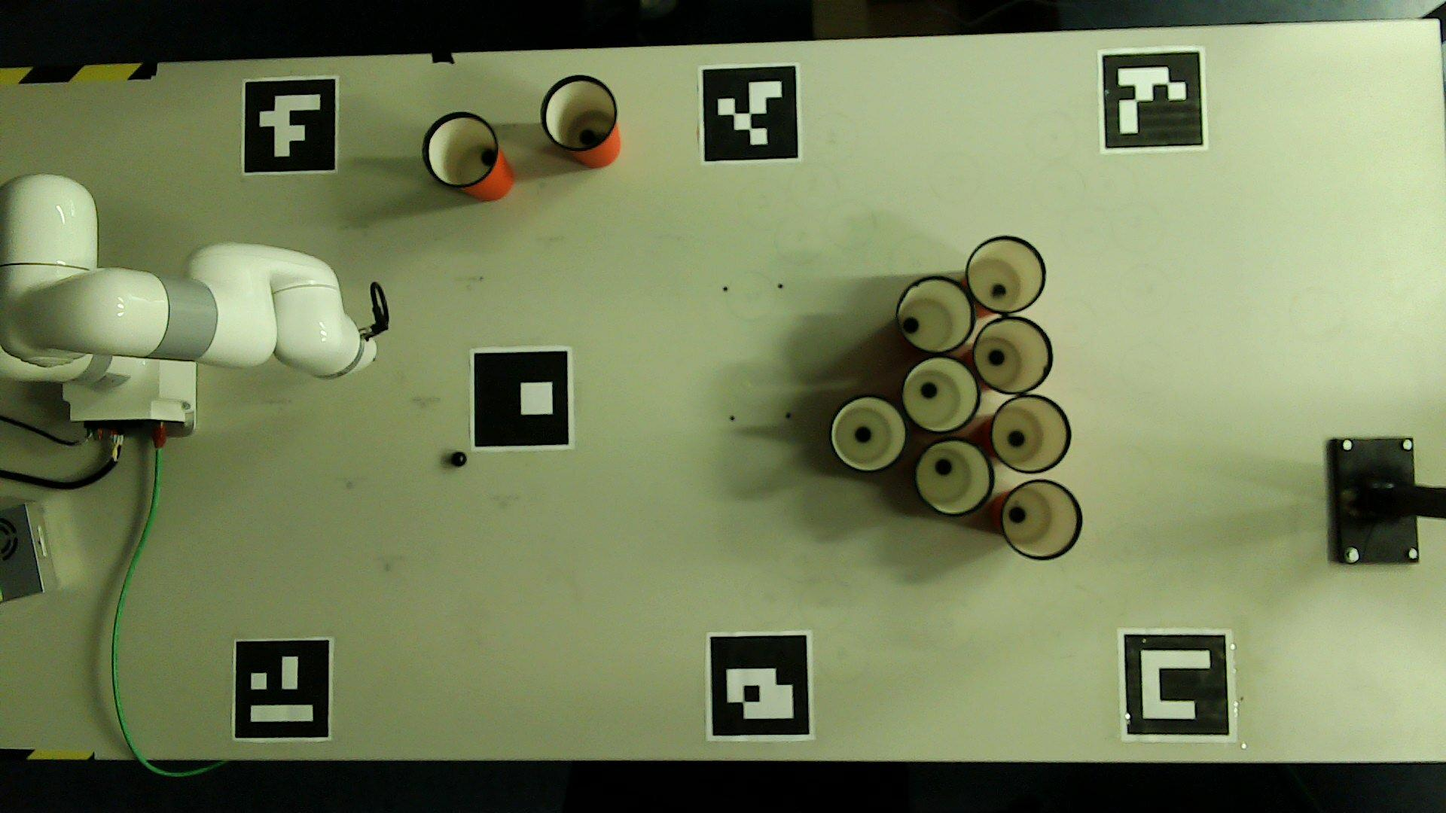ball: (990, 351, 1004, 366), (1010, 432, 1024, 447), (1011, 508, 1025, 523), (579, 131, 595, 144), (481, 150, 495, 164), (922, 384, 936, 398), (937, 461, 951, 475), (903, 318, 918, 331), (857, 428, 870, 441), (452, 453, 466, 465), (993, 285, 1005, 298)
cup: (1001, 480, 1080, 559), (967, 236, 1045, 314), (901, 356, 980, 433), (830, 395, 908, 472), (897, 277, 974, 354), (992, 396, 1069, 473), (975, 318, 1052, 394), (914, 439, 991, 515), (542, 76, 616, 149), (424, 113, 497, 186)
